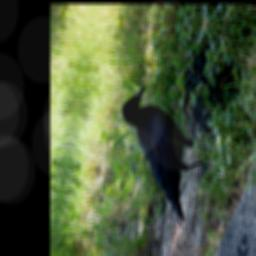Crow: (102, 82, 220, 232)
